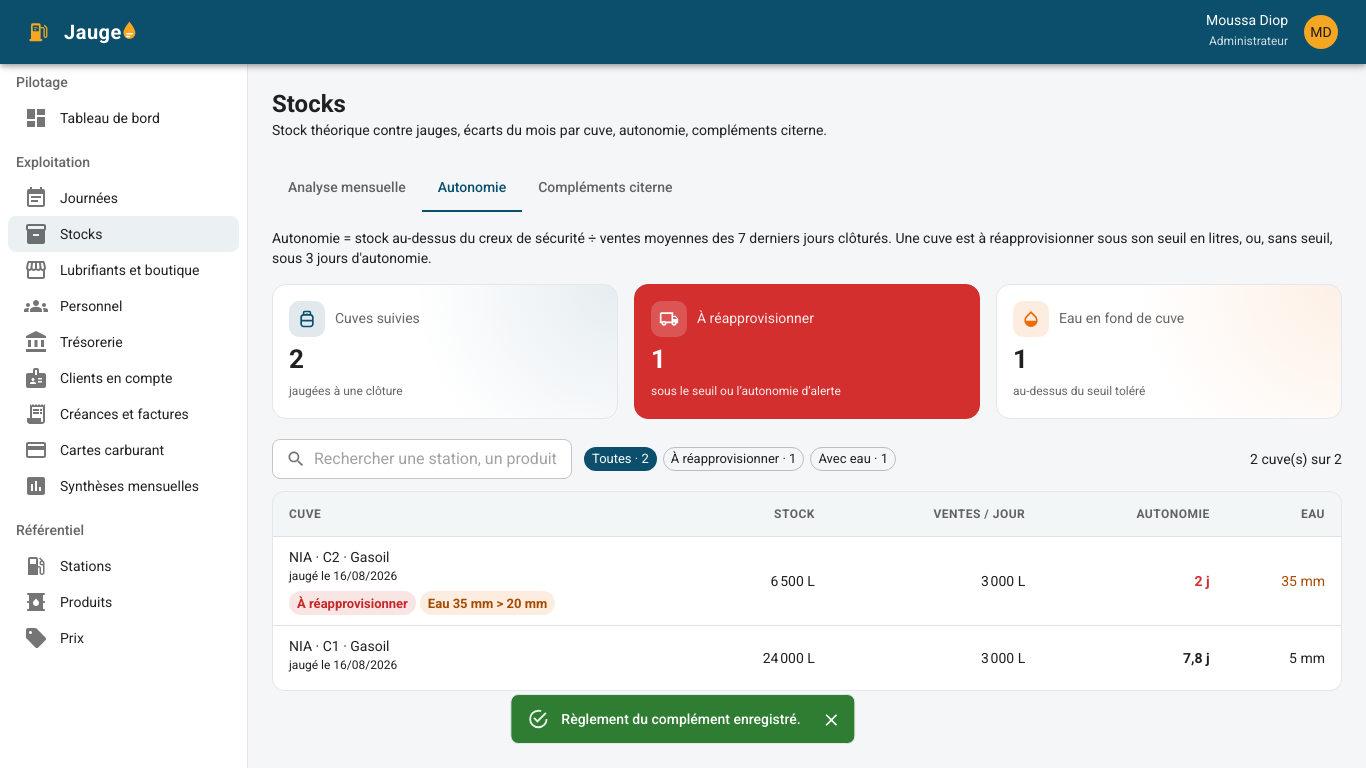
it: page Stocks › montre l'autonomie des cuves, celles à réapprovisionner d'abord, et l'eau en fond de cuve
This screenshot has width=1366, height=768.
Expected: the 2nd row shows "NIA · C2", [273,537,1341,626]
Expected: the 2nd row shows "2 j", [1194,573,1210,589]
// Tri par colonne : un clic sur « Stock » range par stock croissant, un second l'inverse
Click the button "Stock".
click(794, 514)  # box [774,507,815,521]
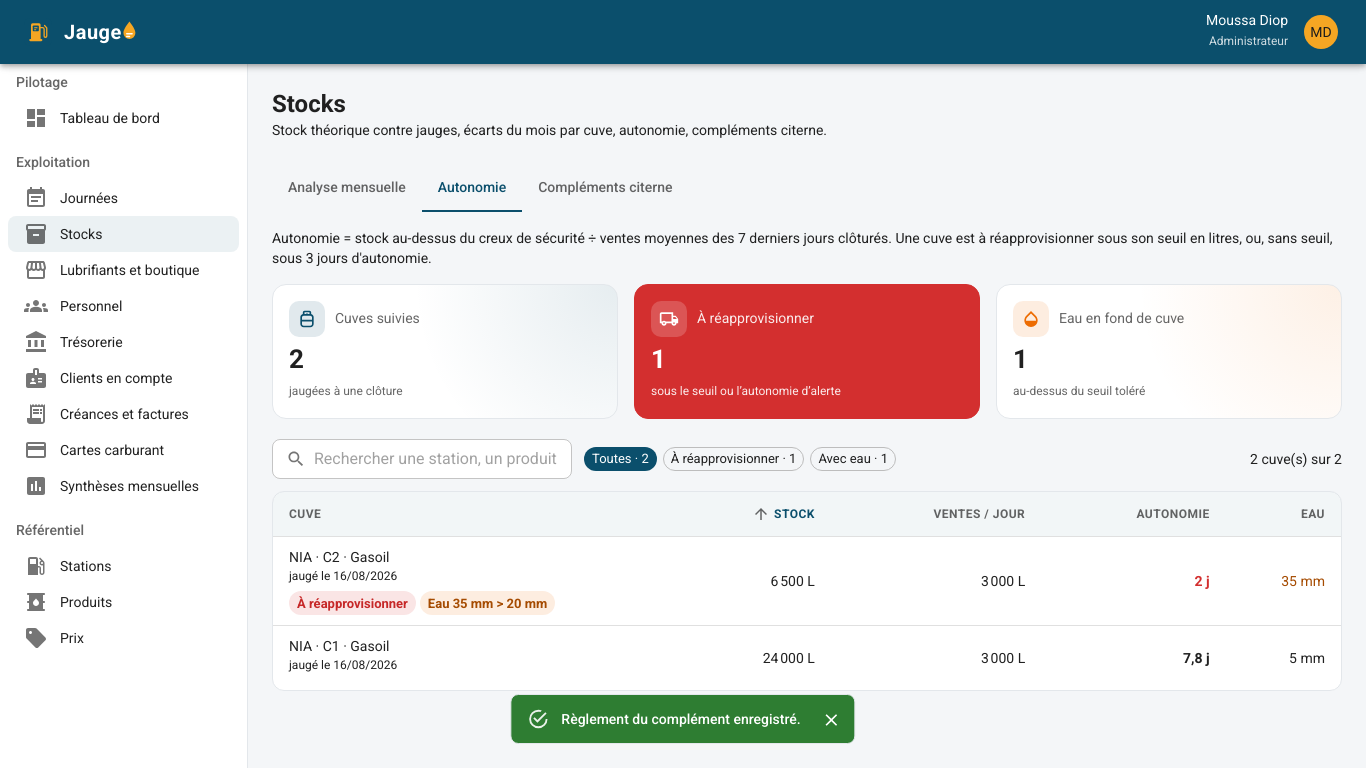
Expected: the 2nd row shows "NIA · C2", [273,537,1341,626]
Click the button "Stock".
click(781, 514)  # box [748,502,815,526]
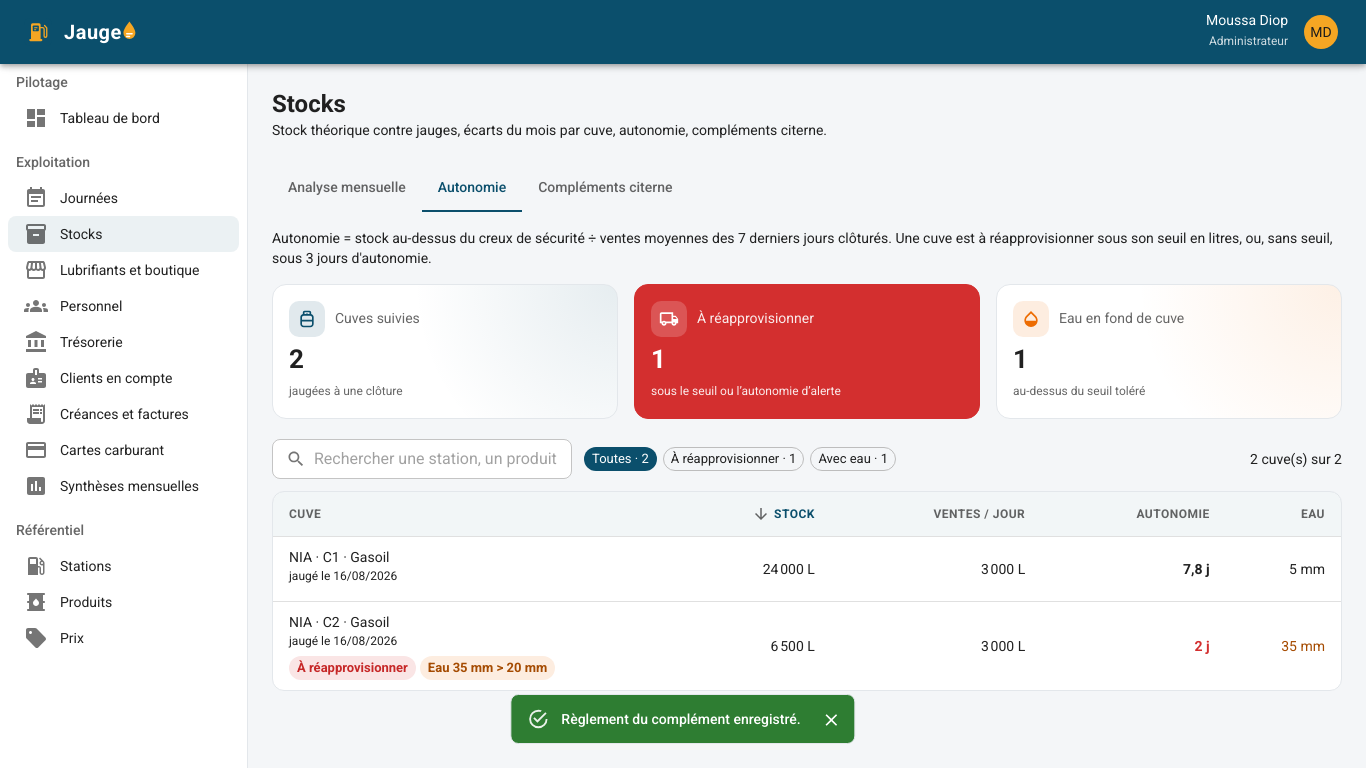
Expected: the 2nd row shows "NIA · C1", [273,537,1341,602]
// Filtre en puces : seulement les cuves à réapprovisionner
Click the button "À réapprovisionner · 1".
click(734, 459)  # box [663,447,804,471]
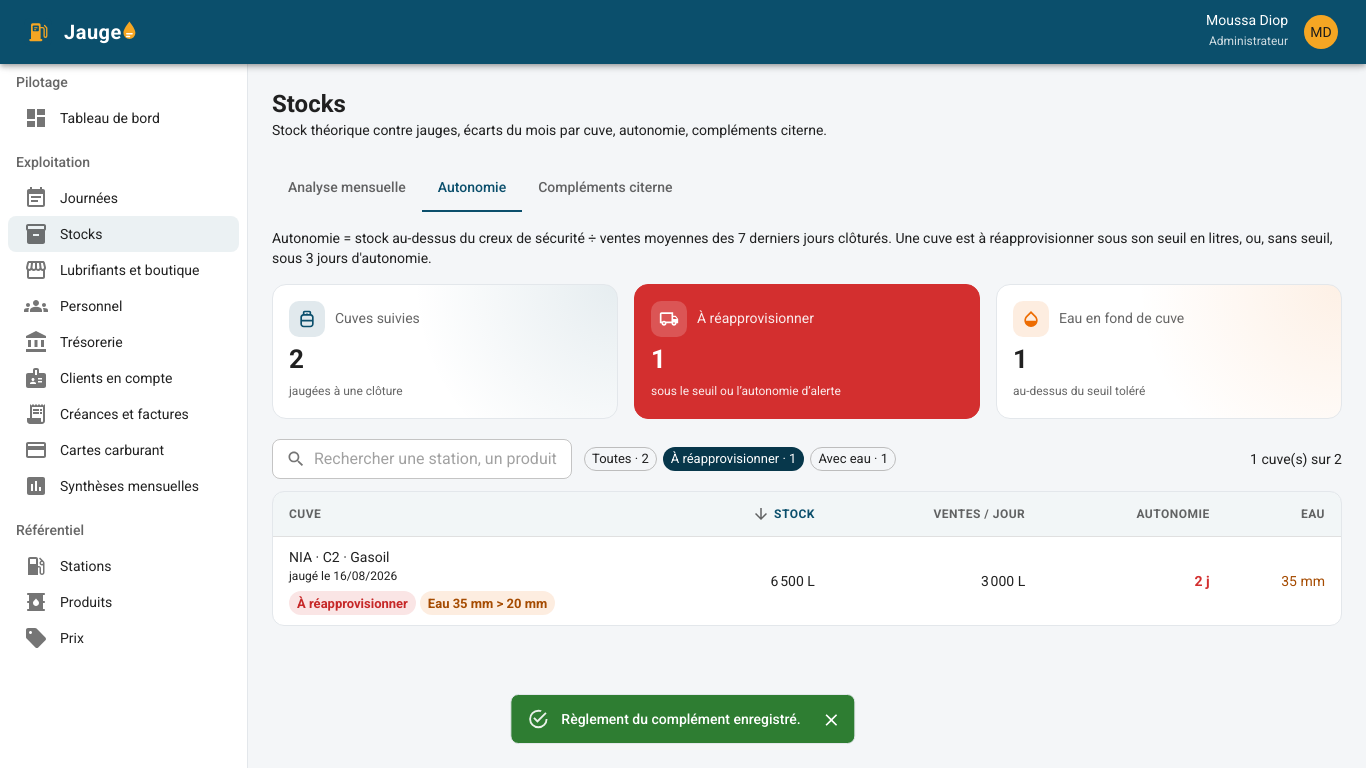
Expected: the text "1 cuve(s) sur 2" is shown, [1250,448,1342,468]
